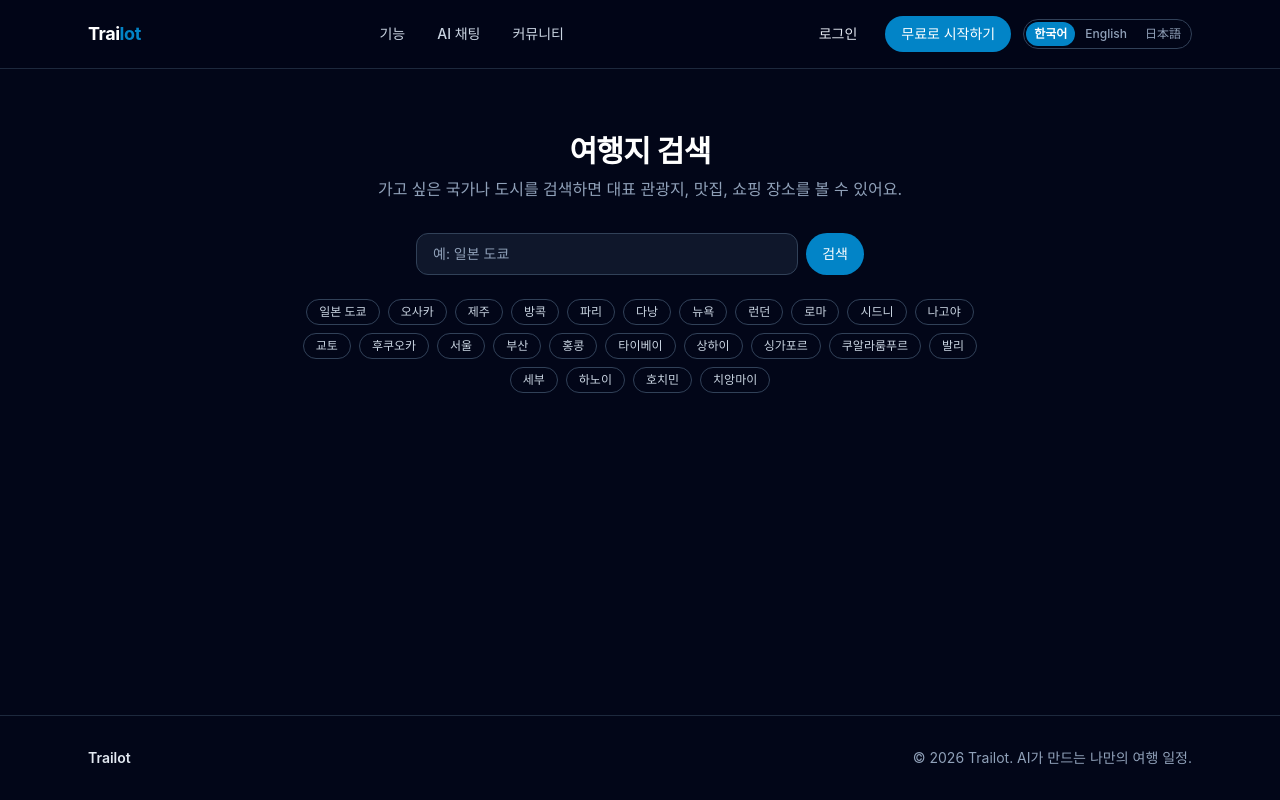
DestinationSearchPage › finds a destination by a short alias like 도쿄 instead of requiring the full name
Type "도쿄" into the field named "여행지 검색" at (607, 254), box [416,233,798,275]
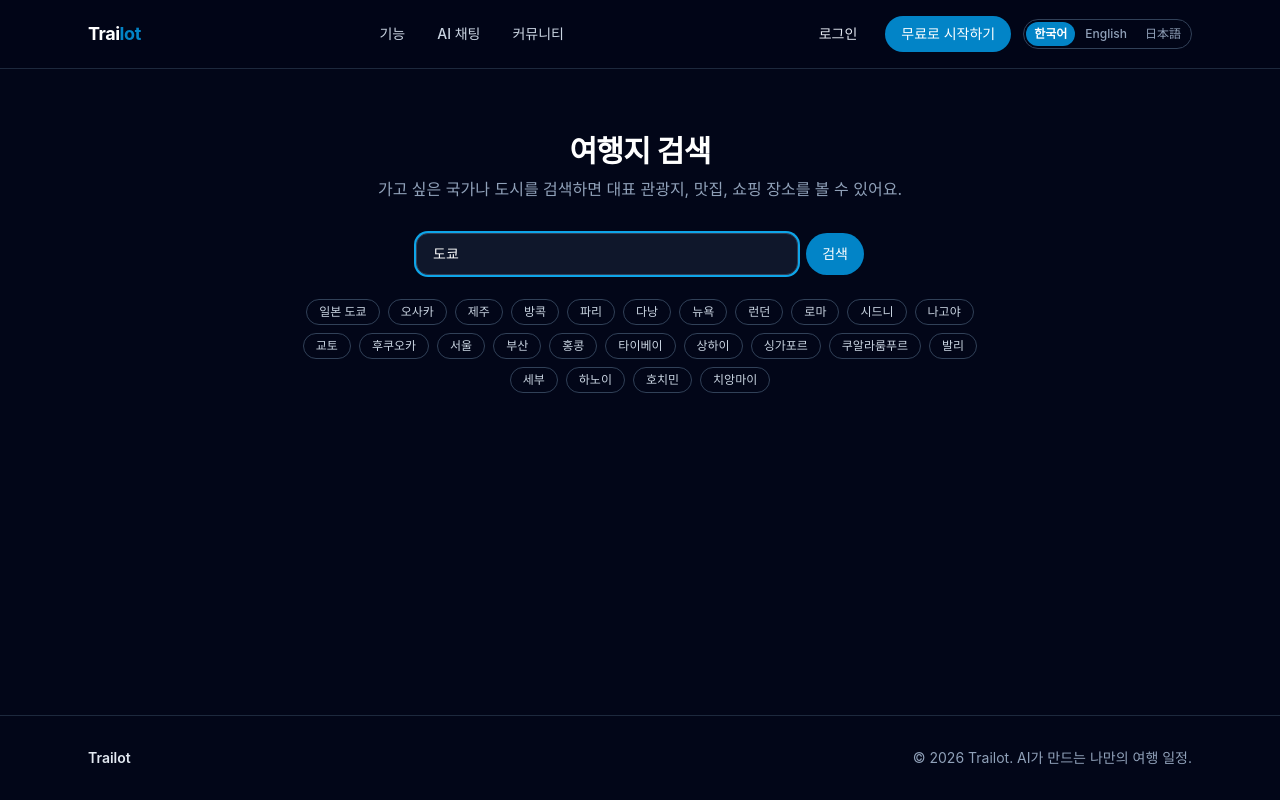
Click the button "검색" at (835, 254), box [806,233,864,275]
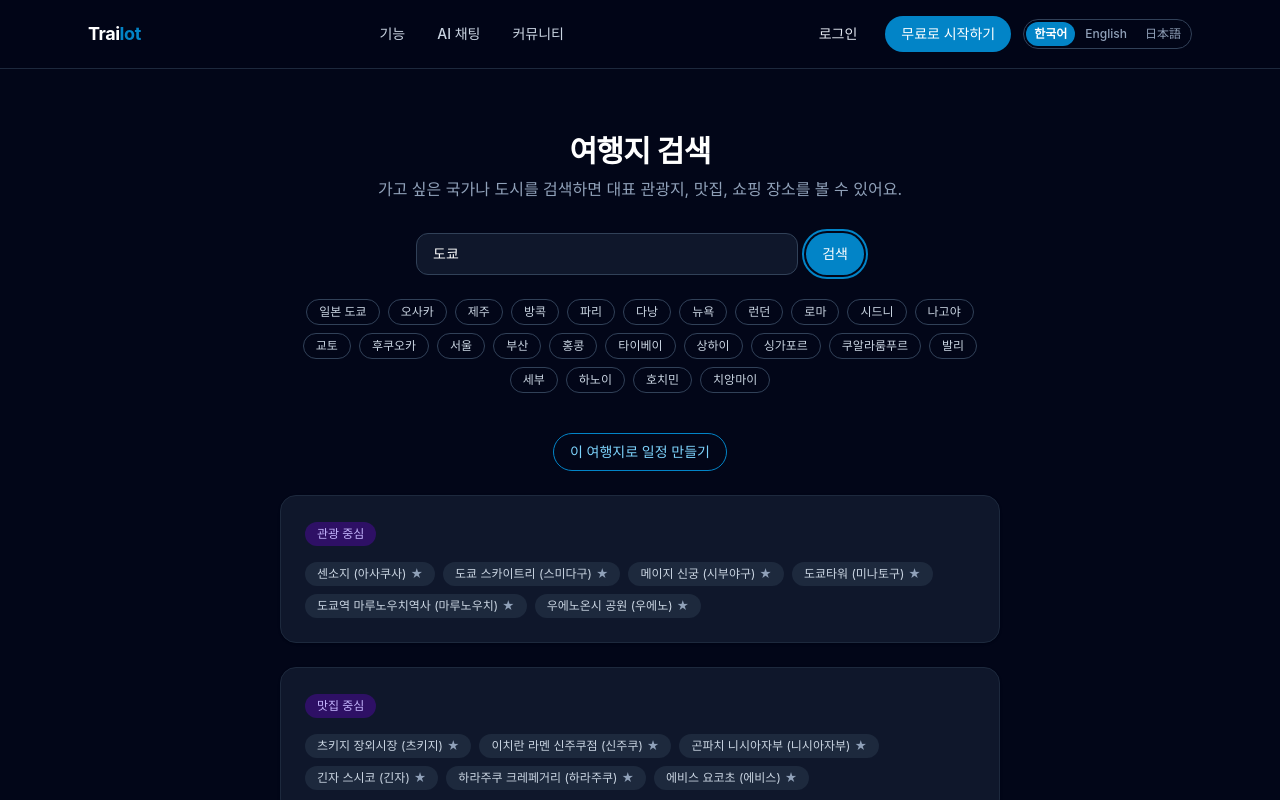
Result: the text "센소지 (아사쿠사)" is shown at [317,566,406,581]
